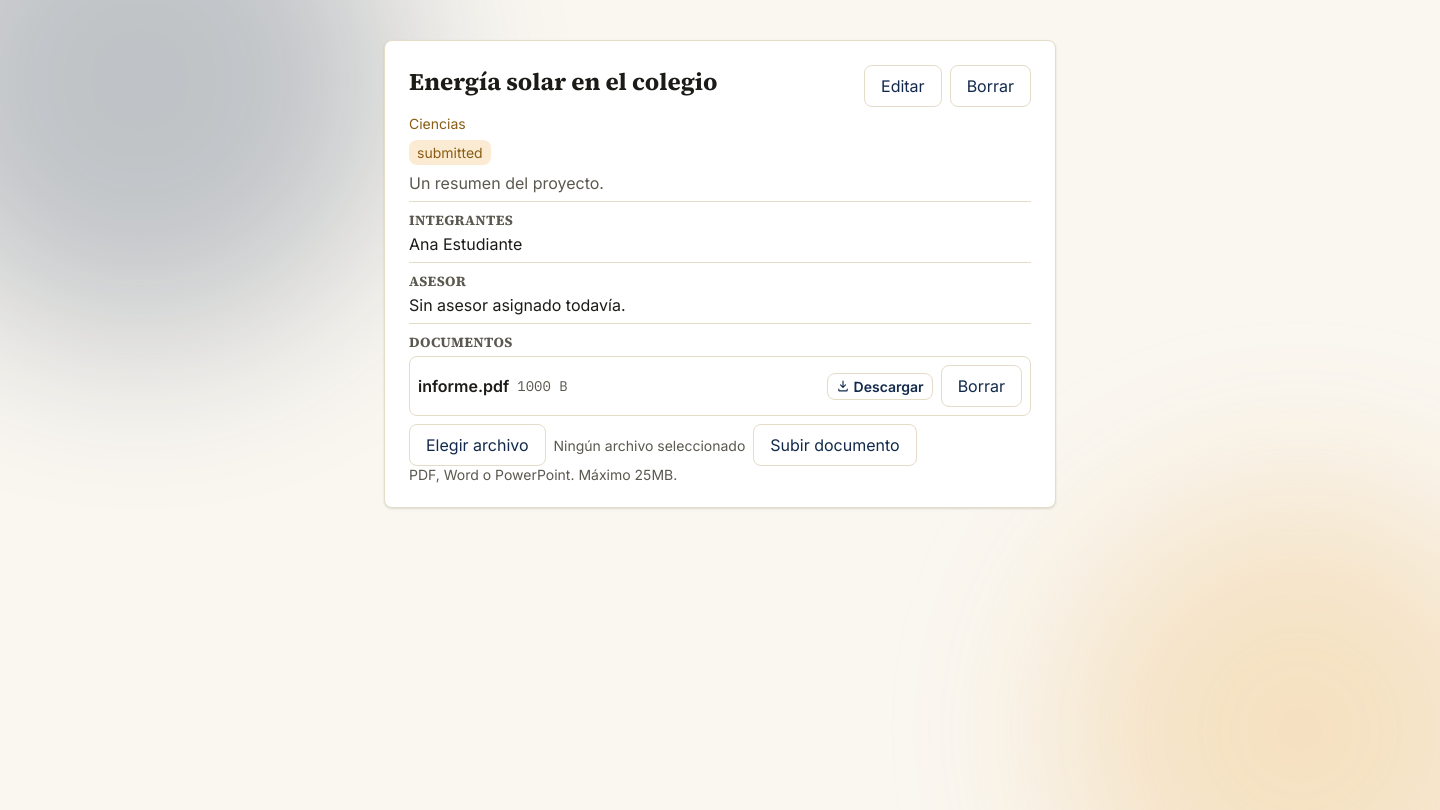
Test: MyProjectPage › borra un documento del proyecto propio
Expected: the text "informe.pdf" is shown, [418,376,509,396]
What coordinates should you click on to do the following:
click the button "Borrar" in the row of "informe.pdf"
I would click on:
 (981, 386)
Its box is [941,365,1022,407].
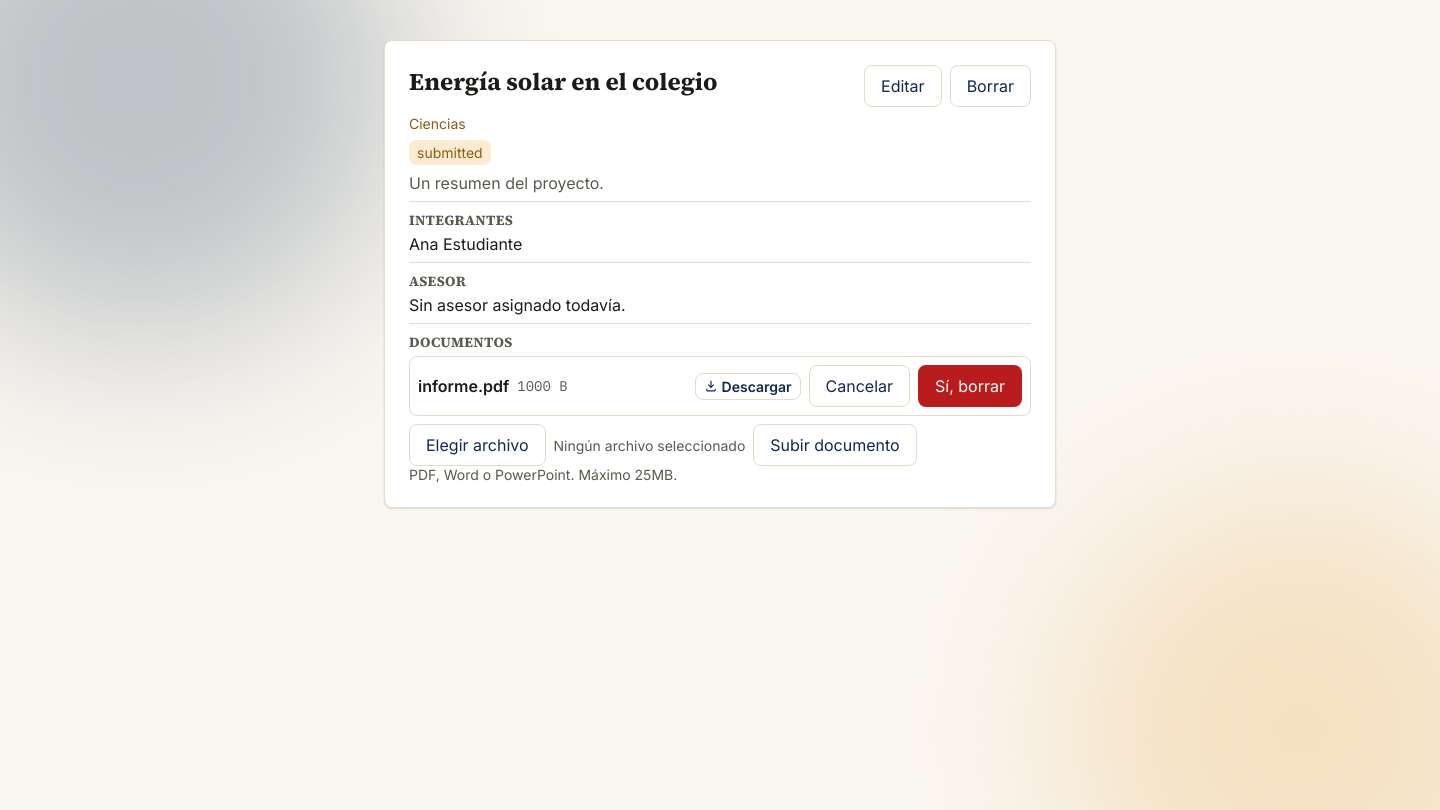
What coordinates should you click on to do the following:
click the button "Sí, borrar"
I would click on:
 (970, 386)
Its box is [918,365,1022,407].
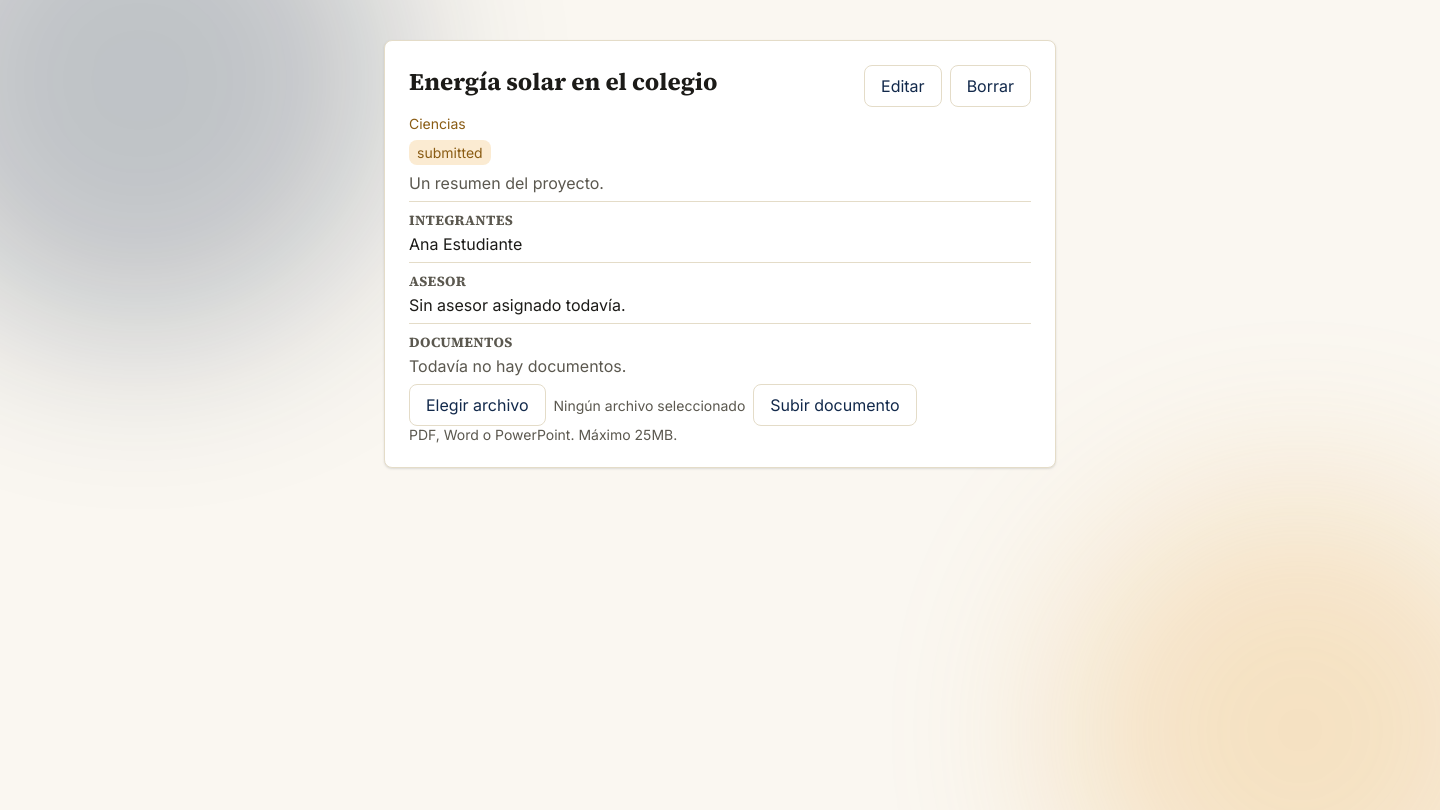
Expected: the text "informe.pdf" is gone
